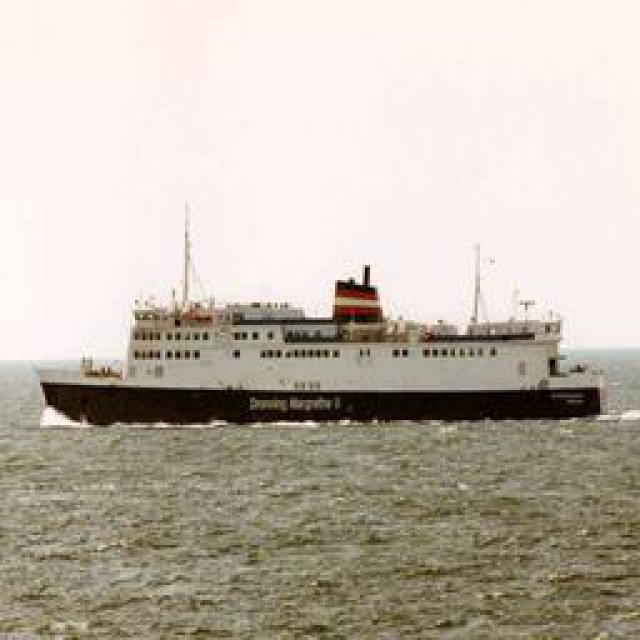Ship: (49, 225, 602, 420)
